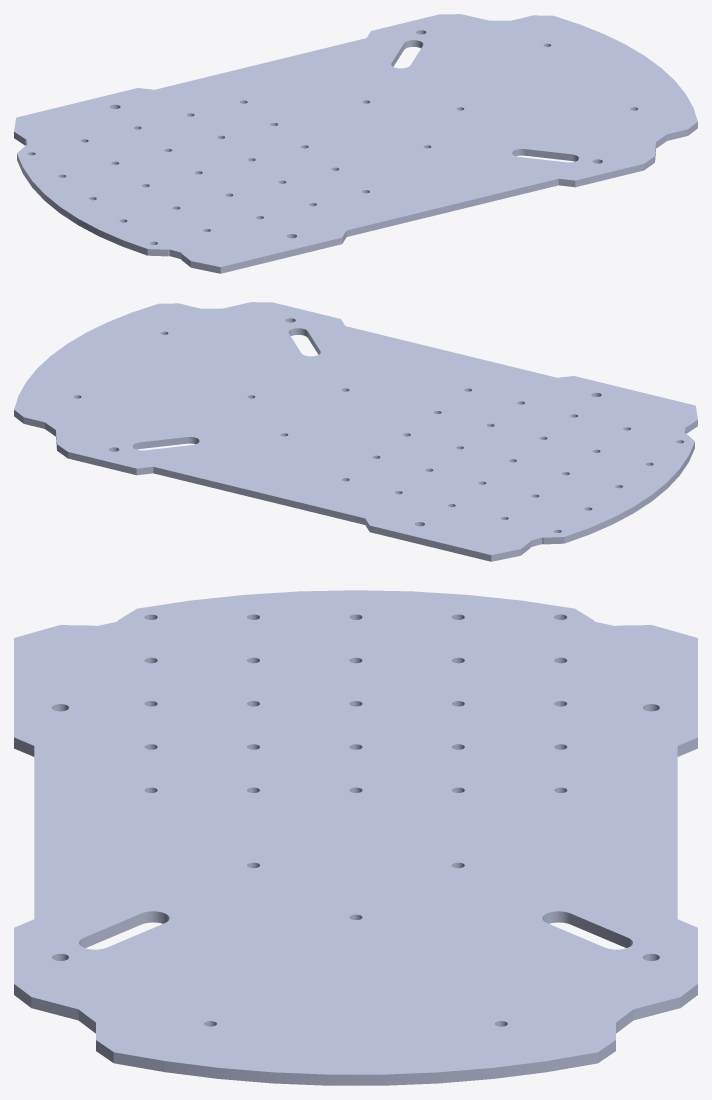
3 renders of one model, top to bottom at view 1: azimuth 30°, elevation 25°; view 2: azimuth 150°, elevation 25°; view 3: azimuth 270°, elevation 25°, orthographic. The views are drawn at different scales.
Parts seen in each view (by area): view 1: node0; view 2: node0; view 3: node0.
Boxes of the visible parts, x1,y1,x2,y2 form: node0: [14, 14, 697, 273]; node0: [14, 302, 697, 561]; node0: [14, 590, 697, 1085].
Bounding box in the file's own units: 0.2798 × 0.003 × 0.167.
